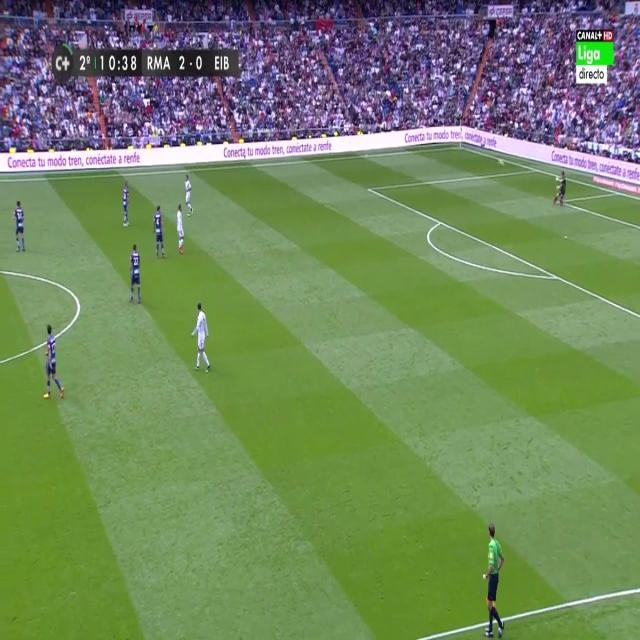Ball: (495, 154, 506, 170)
Goalkeeper: (549, 169, 568, 209)
Player: (38, 322, 66, 404), (190, 300, 212, 376), (126, 242, 144, 309), (12, 198, 28, 258), (152, 203, 167, 259), (121, 178, 133, 230), (175, 203, 186, 255), (184, 173, 196, 219)
Referee: (482, 520, 506, 638)
